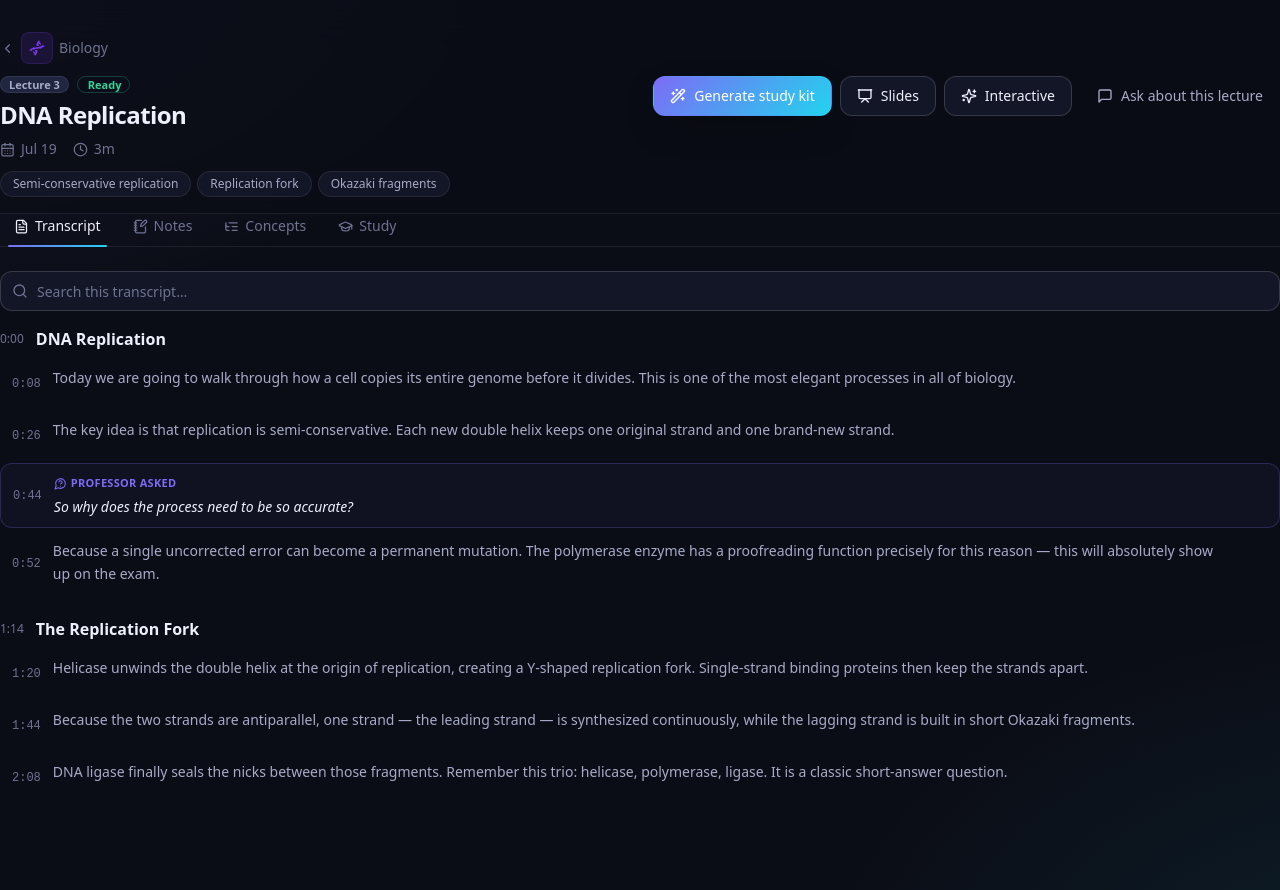
LecturePage › opens the concept explainer and loads an AI explanation
Click the tab "Concepts" at x=265, y=226, box [210, 206, 320, 246]
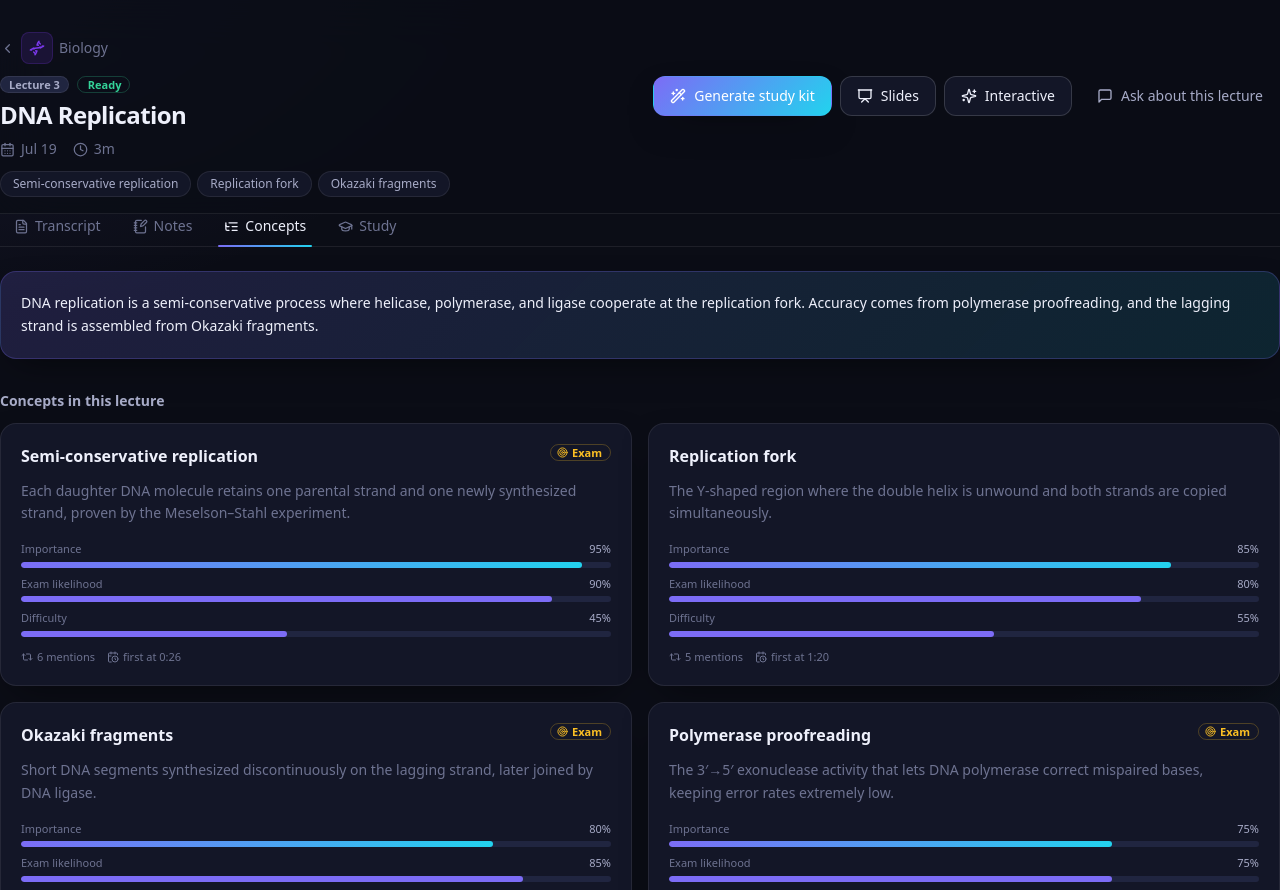
Click the button with aria-label "Explain Semi-conservative replication" at x=316, y=554, box [0, 422, 632, 686]
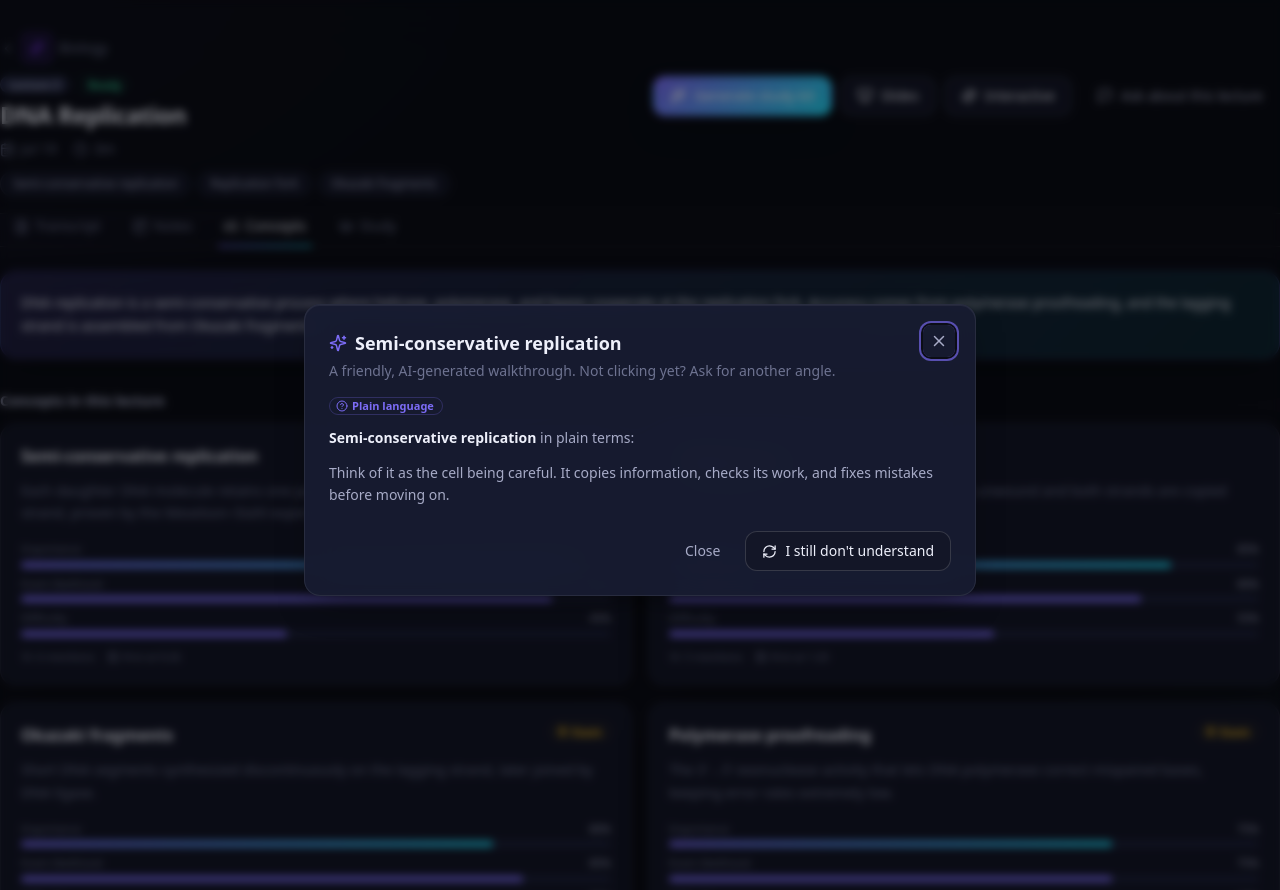
expect the text "Semi-conservative replication in plain terms:" is shown: met, box [329, 428, 634, 447]
